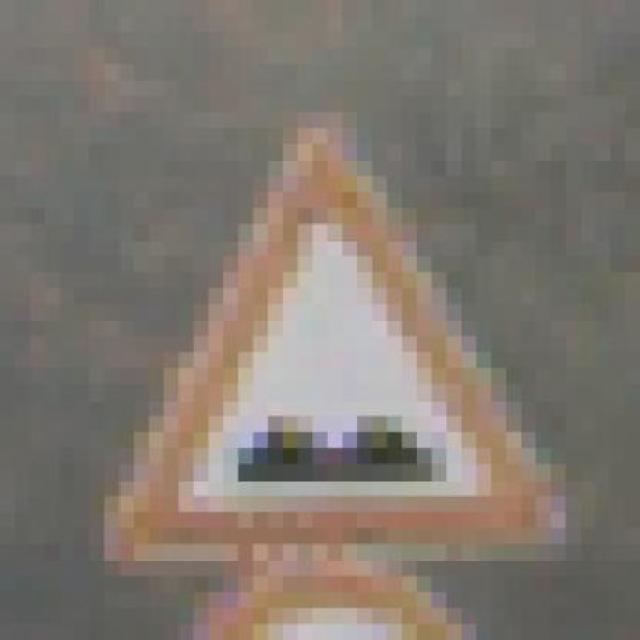Uneven Road: (74, 95, 580, 560)
